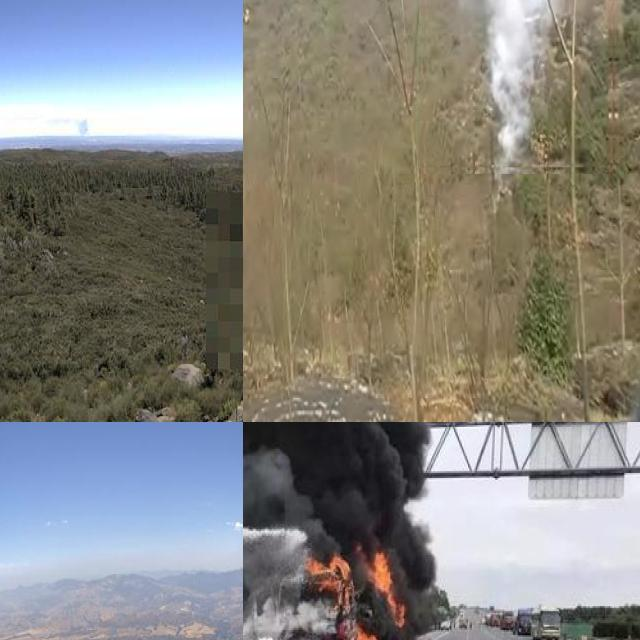fire: (296, 543, 407, 640)
smoke: (243, 422, 431, 640), (461, 0, 581, 168), (72, 115, 89, 138)
